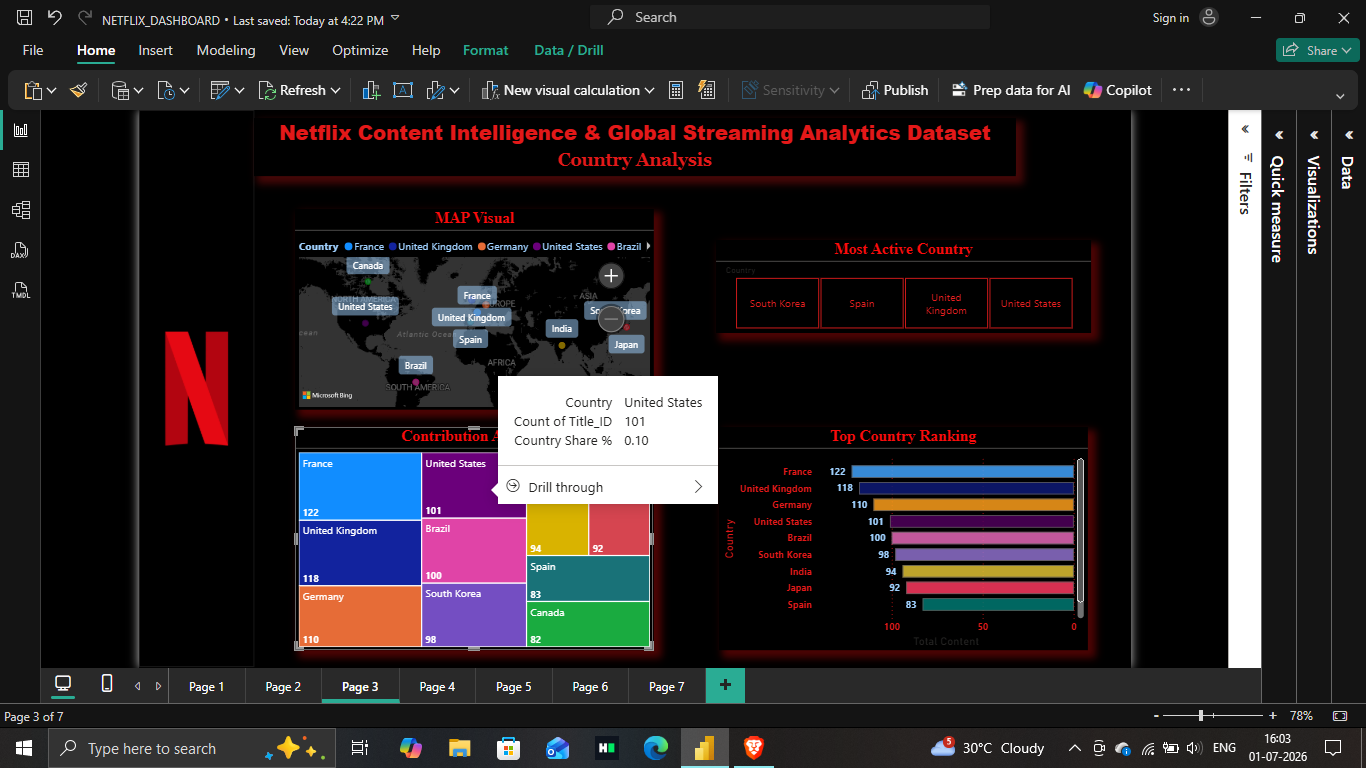

What the dashboard file says about the page in this screenshot:
{"tool":"powerbi","page":{"name":"Page 3","canvas":[1280,720],"ordinal":2},"visuals":[{"type":"image","box":[0,0,148.7,719.4],"z":0},{"type":"textbox","title":"Netflix Content Intelligence & Global Streaming Analytics Dataset","box":[148.9,10.1,983.1,75.2],"z":1000},{"type":"map","title":"MAP Visual","fields":{"Category":["Netflix.Country"],"Series":["Netflix.Country"],"Size":["CountNonNull(Netflix.Title)"]},"box":[201.3,127.7,463.2,259.4],"z":2000},{"type":"barChart","title":"Top Country Ranking","fields":{"Category":["Netflix.Country"],"Y":["Netflix.Total Content"]},"box":[748.9,409.2,475.7,287.7],"z":3000},{"type":"treemap","title":"Contribution Analysis","fields":{"Group":["Netflix.Country"],"Values":["CountNonNull(Netflix.Title_ID)"]},"box":[201,409.2,462.7,287.7],"z":4000},{"type":"slicer","title":"Most Active Country","fields":{"Values":["Netflix.Country"]},"box":[744.5,167.7,483.9,120],"z":5000}]}

Visuals, with their boxes on the page's 1280x720 design canvas (x1, y1, x2, y2). These are canvas units, not pixel positions in the 1366x768 screenshot, which may show the page scaled, cropped or inside an application window:
image: box(0, 0, 149, 719)
"Netflix Content Intelligence & Global Streaming Analytics Dataset" textbox: box(149, 10, 1132, 85)
"MAP Visual" map: box(201, 128, 664, 387)
"Top Country Ranking" barChart: box(749, 409, 1225, 697)
"Contribution Analysis" treemap: box(201, 409, 664, 697)
"Most Active Country" slicer: box(744, 168, 1228, 288)
